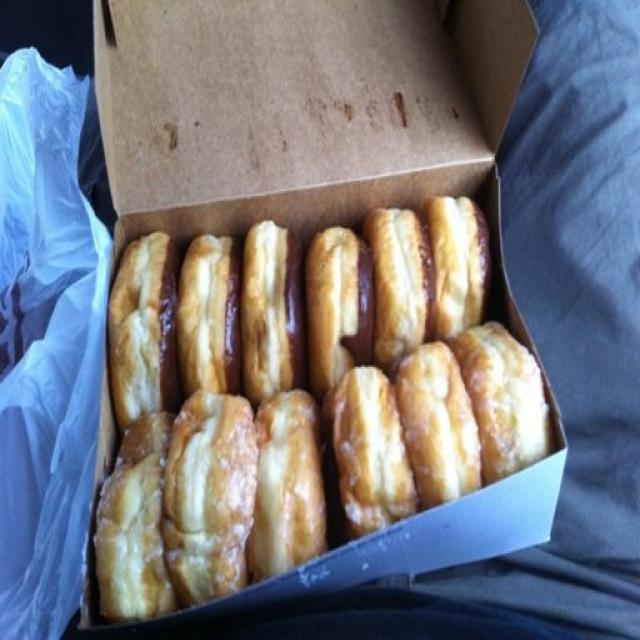Donuts: (94, 200, 565, 597)
